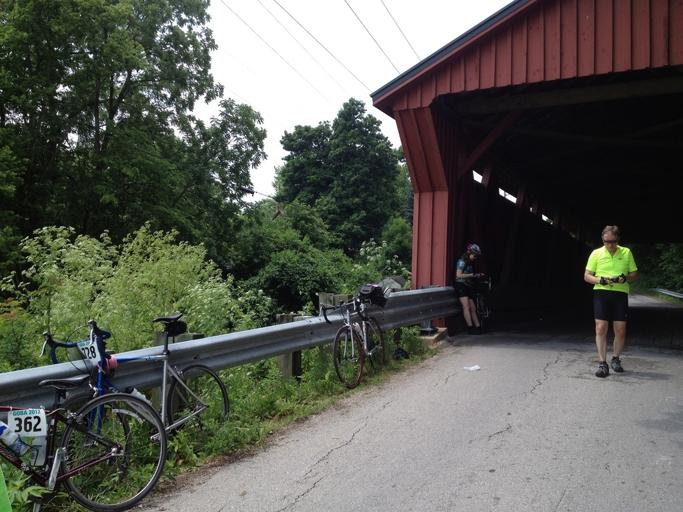non-vehicle: (39, 313, 230, 503), (0, 378, 165, 510), (319, 292, 384, 389)
